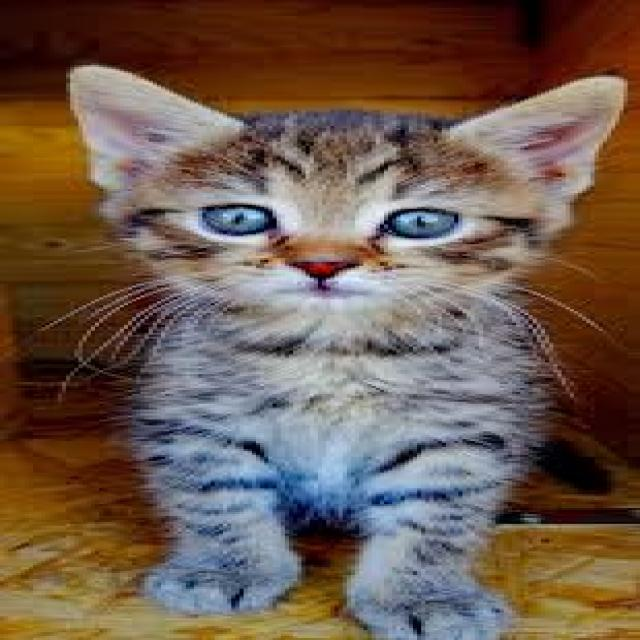Cat: (0, 59, 636, 638)
